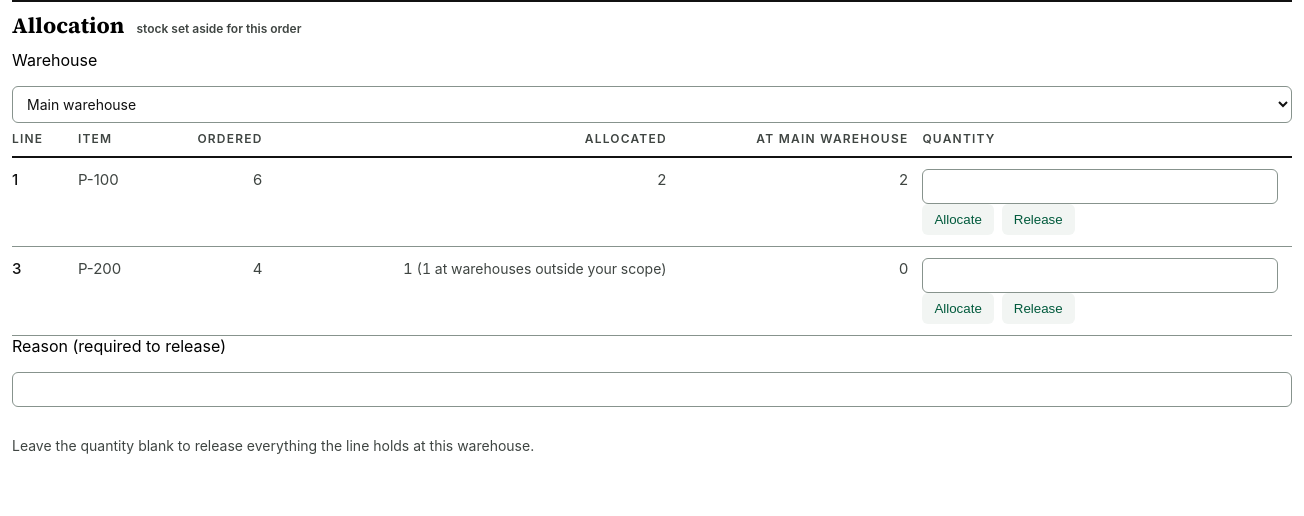
Scenario: SalesOrderAllocation › Allocate states the line, the order's company, the CHOSEN warehouse, the Part, the quantity and a key; then re-reads and reports
The image size is (1304, 516).
Check: the table named "Allocation by line" is shown, box [12, 123, 1292, 336]
Select "Annex" in the dropdown labelled "Warehouse" at (652, 105), box [12, 86, 1292, 123]
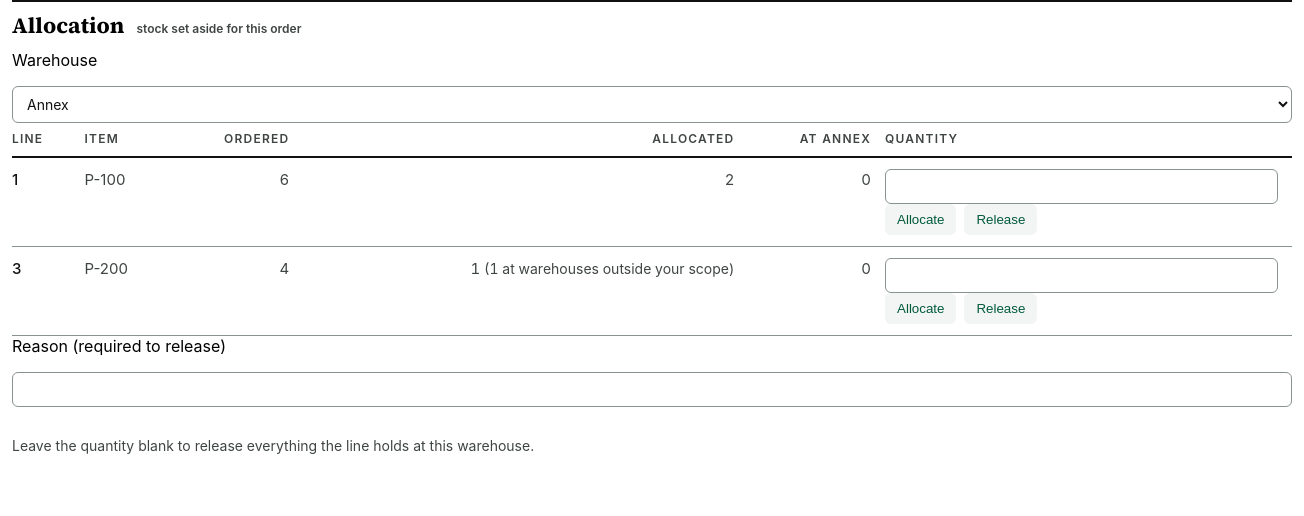
Check: the button with aria-label "Allocate line 1" is disabled, box [885, 204, 956, 235]
Type "3" into the number field named "Quantity for line 1" at (1082, 187), box [885, 169, 1278, 204]
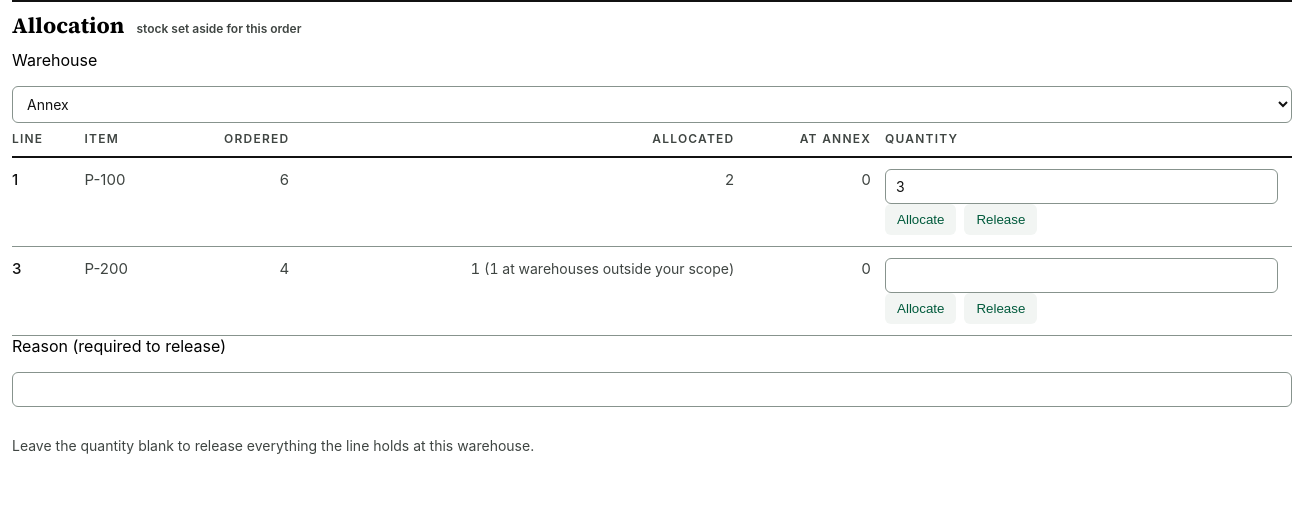
Click the button with aria-label "Allocate line 1" at (921, 220), box [885, 204, 956, 235]
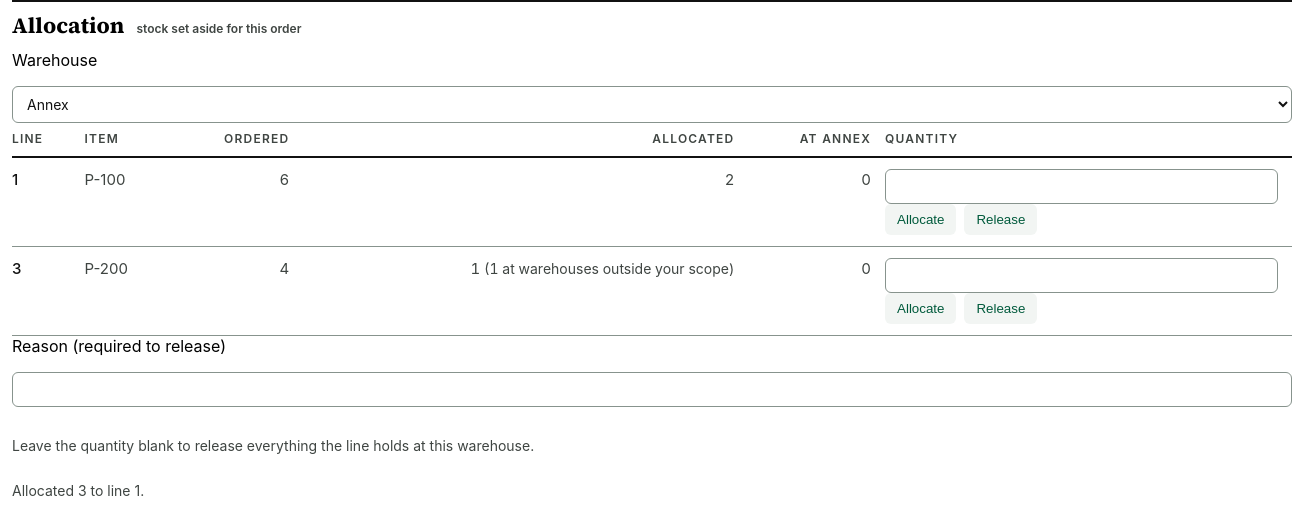
Check: the message shows "Allocated 3 to line 1", box [12, 482, 144, 499]
